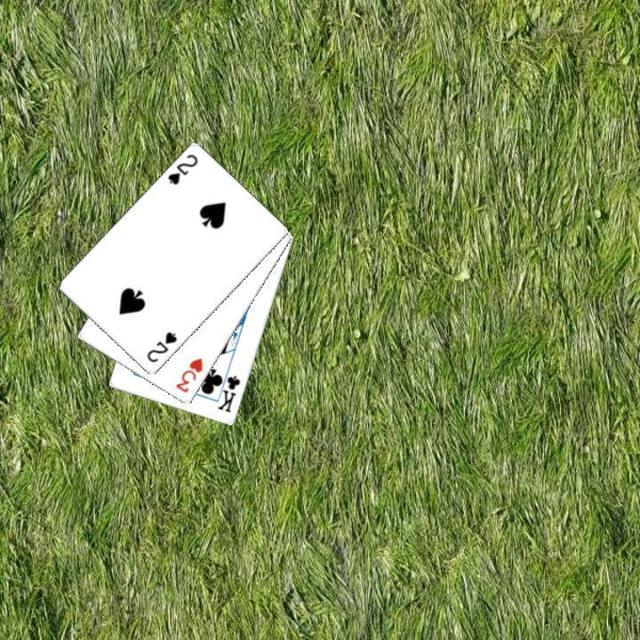2S: (164, 150, 200, 188), (143, 328, 179, 364)
3H: (172, 354, 204, 394)
KC: (212, 366, 242, 414)
